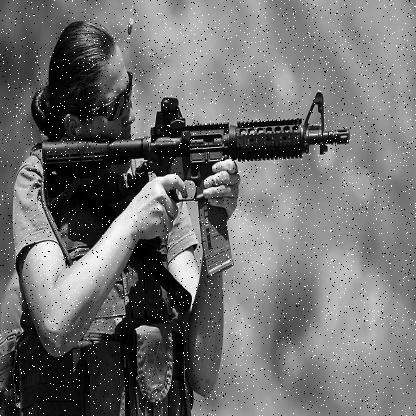rifle: (40, 112, 360, 274)
